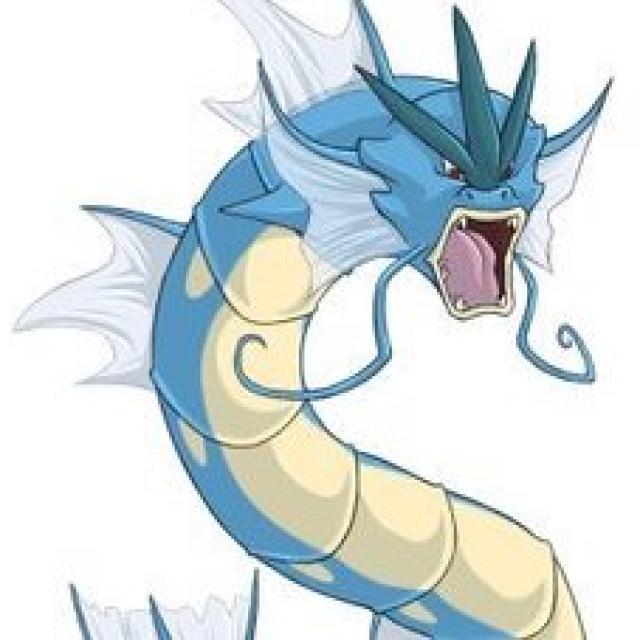Gyarados: (30, 0, 632, 640)
